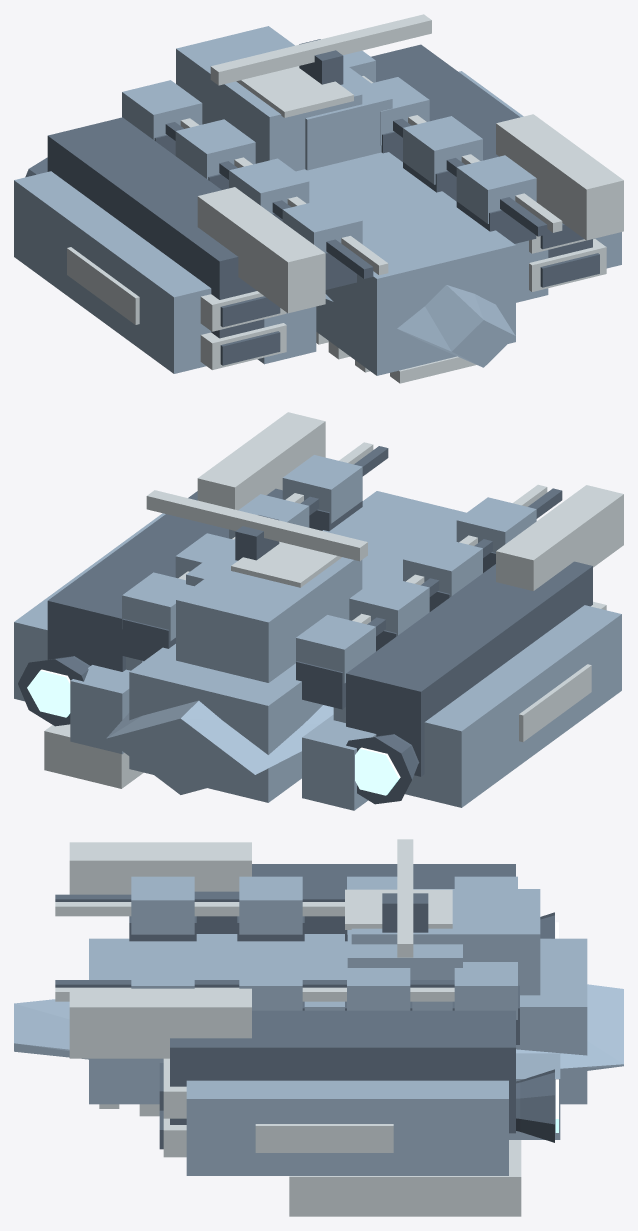
3 views of the same model, one above another, from view 1: azimuth 30°, elevation 25°; view 2: azimuth 150°, elevation 25°; view 3: azimuth 270°, elevation 25° (orthographic).
Bounding box in the file's own units: 15.75 × 8.14 × 18.12.
